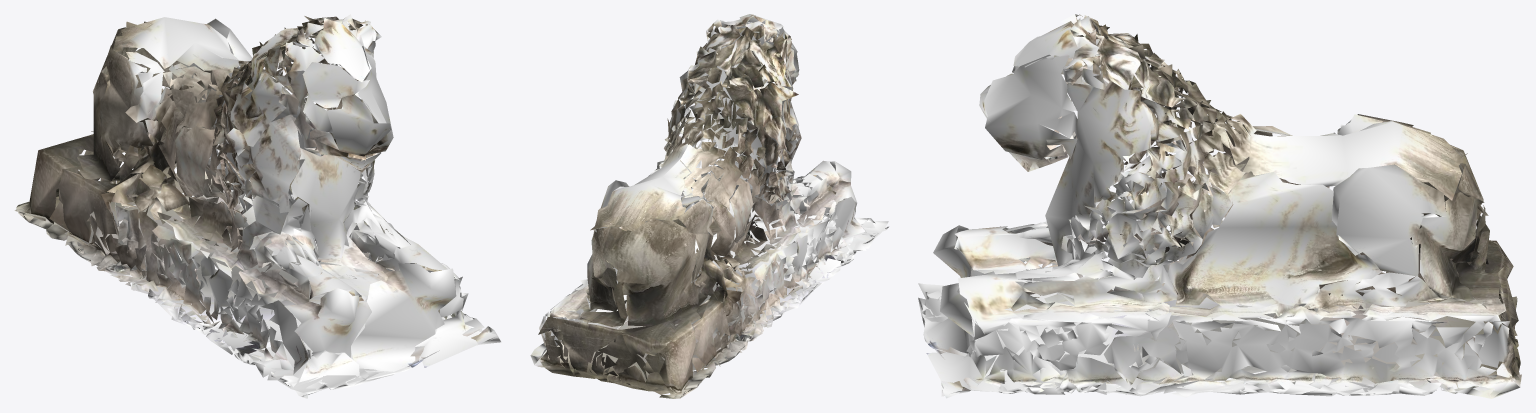
Rendered from lion.glb.
3 renders of one model, left to right at view 1: azimuth 30°, elevation 25°; view 2: azimuth 150°, elevation 25°; view 3: azimuth 270°, elevation 25°, orthographic. The views are drawn at different scales.
Visible parts, largest first — view 1: Object_2; view 2: Object_2; view 3: Object_2.
Boxes of the visible parts, x1,y1,x2,y2 form: Object_2: [14, 14, 500, 398]; Object_2: [530, 14, 888, 398]; Object_2: [918, 14, 1521, 398].
Bounding box in the file's own units: 2.86 × 3.88 × 6.29.
1 material, 1 textured.
